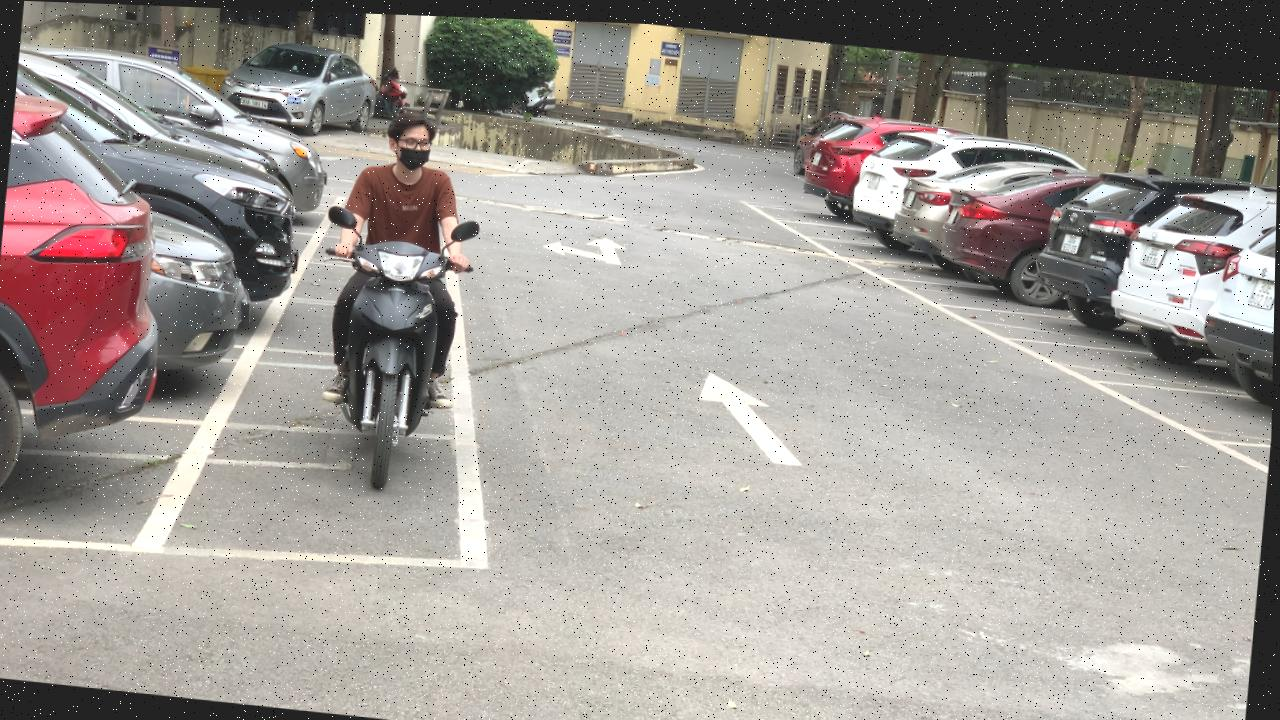motorcyclist: (301, 101, 493, 494)
